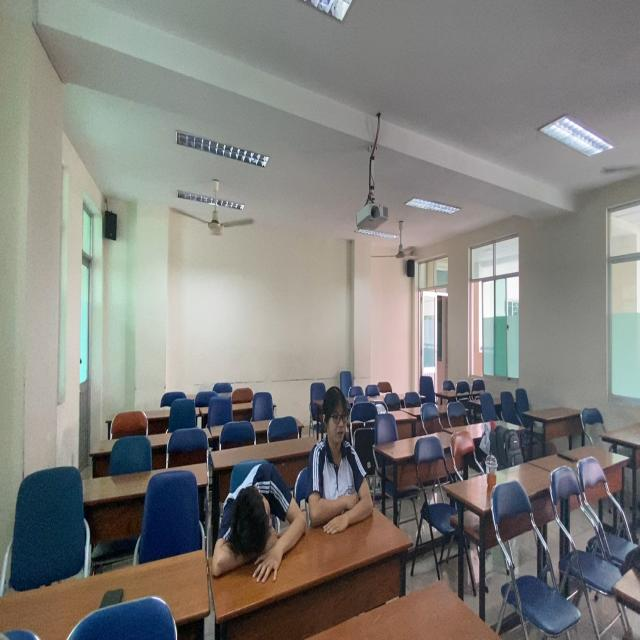sleep: (210, 457, 310, 587)
